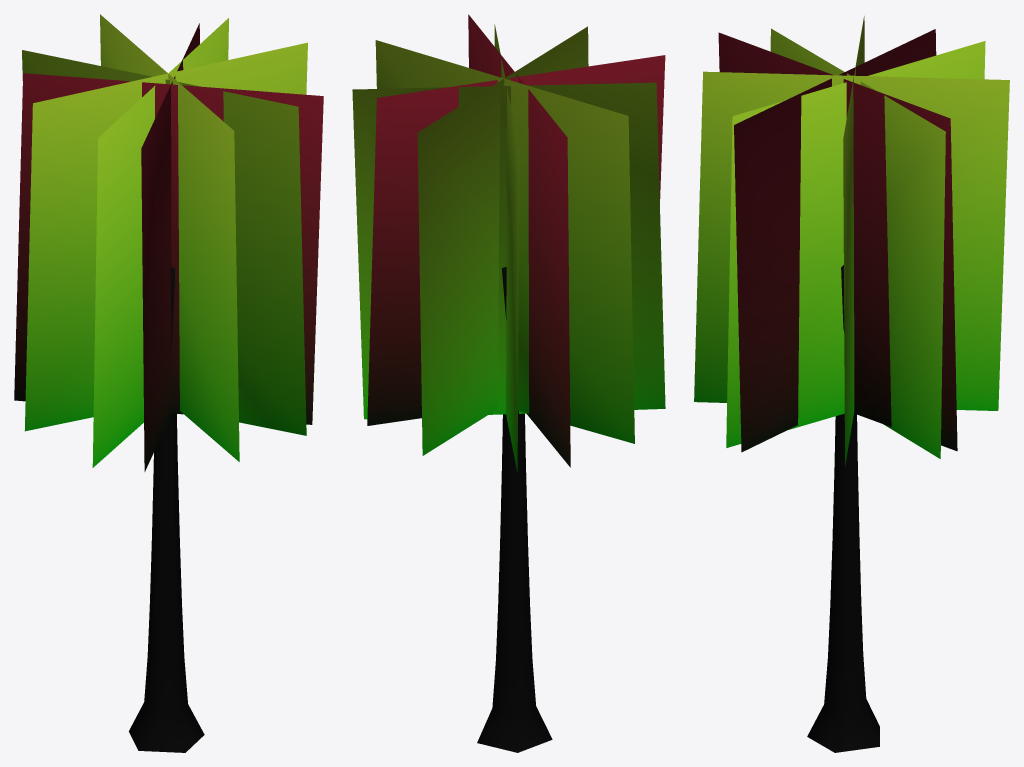
The model's file is Super_Palm_1.fbx.
3 renders of one model, left to right at view 1: azimuth 30°, elevation 25°; view 2: azimuth 150°, elevation 25°; view 3: azimuth 270°, elevation 25°, orthographic.
Parts seen in each view (by area): view 1: Tree_1; view 2: Tree_1; view 3: Tree_1.
Part boxes in pixels (left/top/right/bottom): Tree_1: left=14, top=14, right=323, bottom=752; Tree_1: left=352, top=14, right=665, bottom=752; Tree_1: left=694, top=16, right=1009, bottom=752.
Size of the model in its own units: 488 by 1138 by 489.
